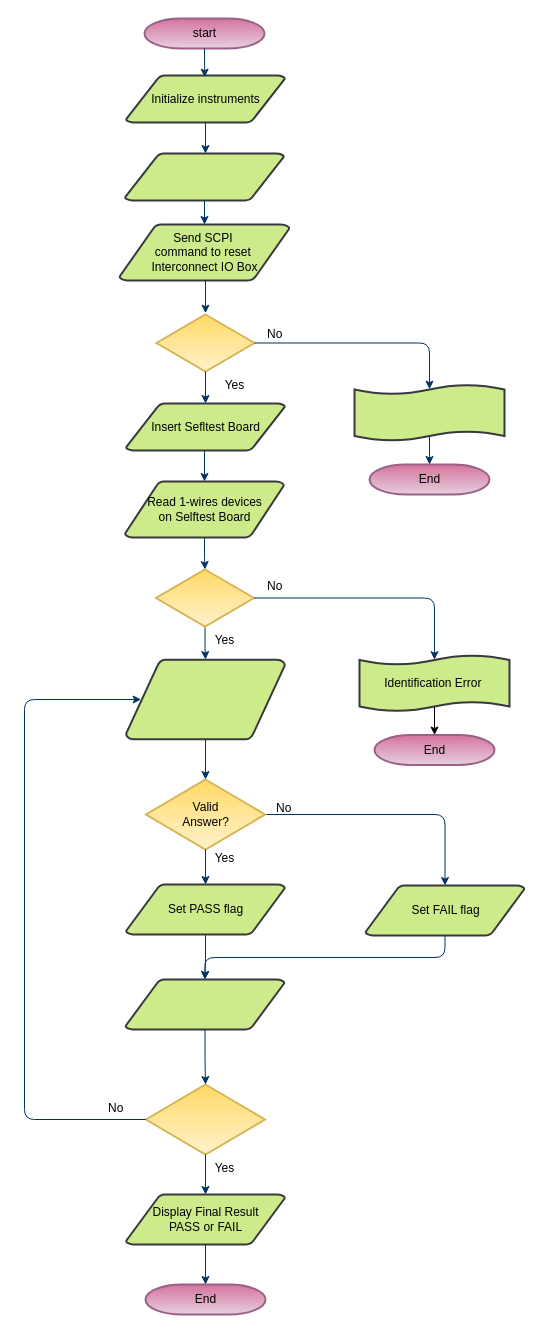
This 543x1332 diagram has some shape labels left out. Each missing label, with the centre of its shape:
"1-wires data good?" goes at [204,597].
"Communication Error" goes at [429,412].
"Display Result" goes at [204,1004].
"Execute test listed on Validation list" goes at [205,699].
"Expected Answer?" goes at [205,342].
"Initialize Serial port" goes at [204,176].
"Last test ?" goes at [205,1119].
